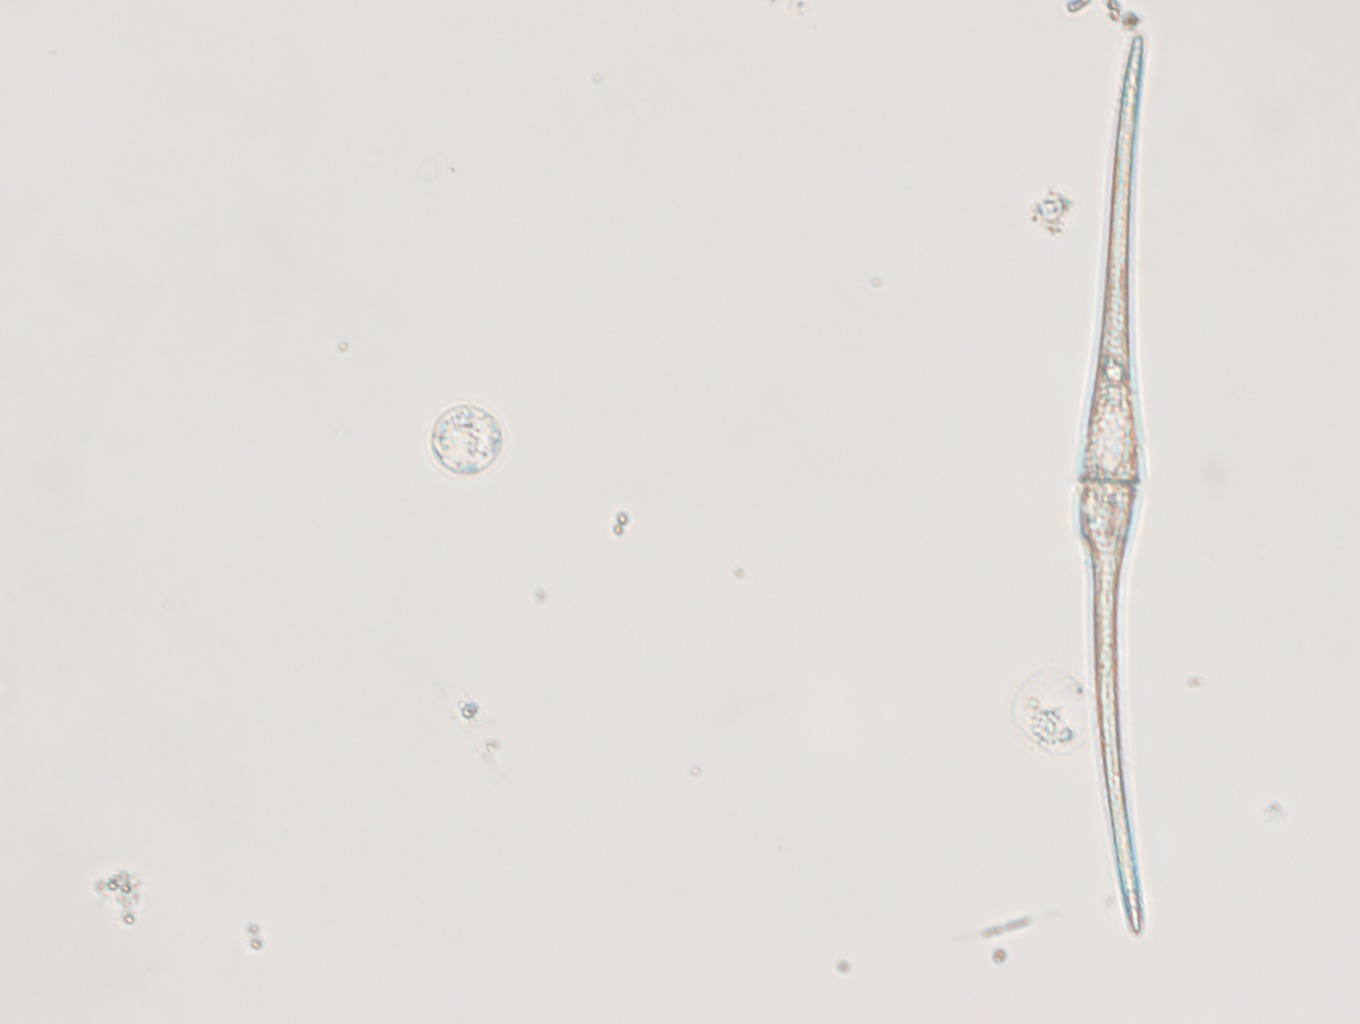ceratium fusus: (1069, 35, 1174, 945)
